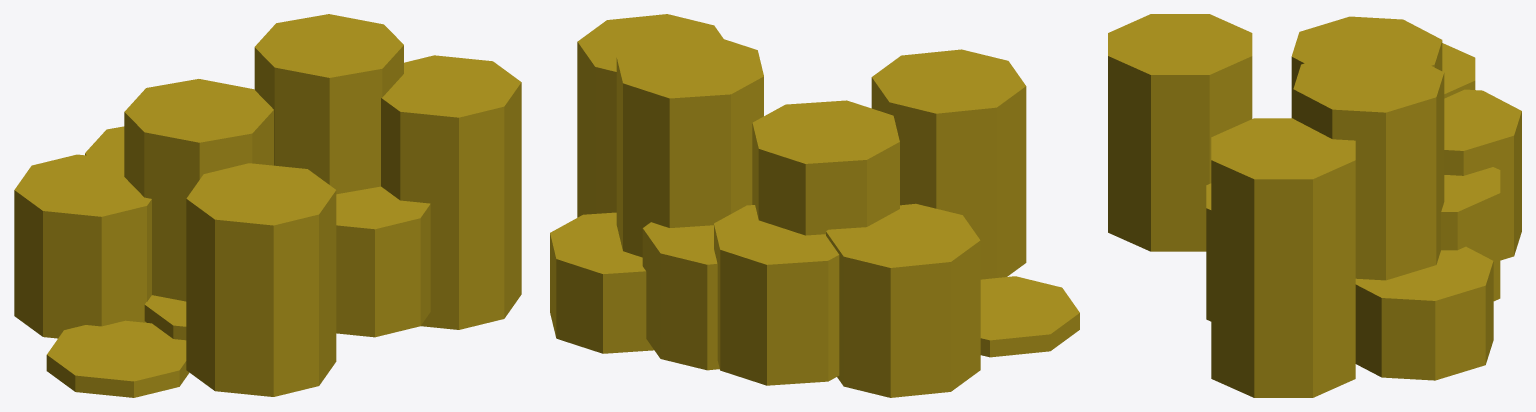
Rendered from Coin1000.glb.
3 views of the same model, side by side, from view 1: azimuth 30°, elevation 25°; view 2: azimuth 150°, elevation 25°; view 3: azimuth 270°, elevation 25° (orthographic). The views are drawn at different scales.
Visible parts, largest first — view 1: Cube; view 2: Cube; view 3: Cube.
Boxes of the visible parts, bbox=[...] form: Cube: bbox=[14, 14, 521, 397]; Cube: bbox=[550, 14, 1079, 397]; Cube: bbox=[1108, 14, 1521, 397].
Bounding box in the file's own units: 0.3789 × 0.1929 × 0.2912.
